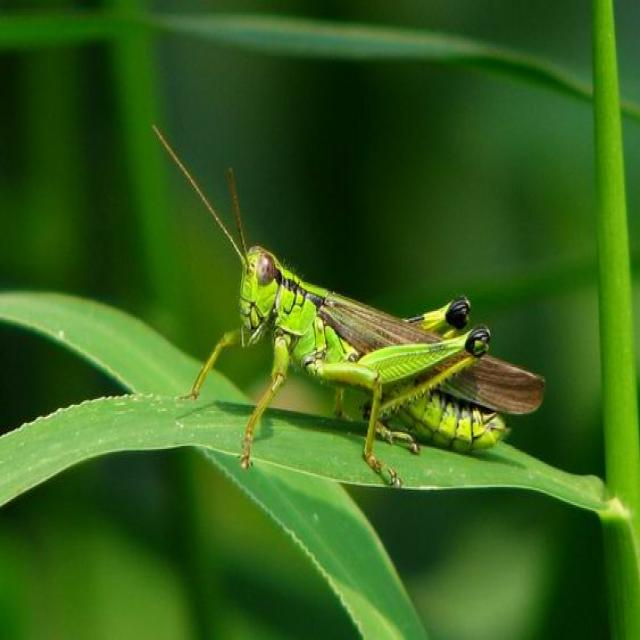ZhaMeng: (205, 212, 548, 471)
